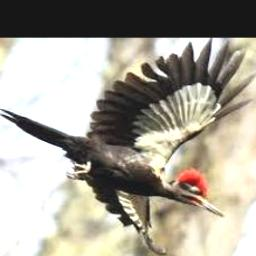Woodpecker: (0, 38, 256, 254)
